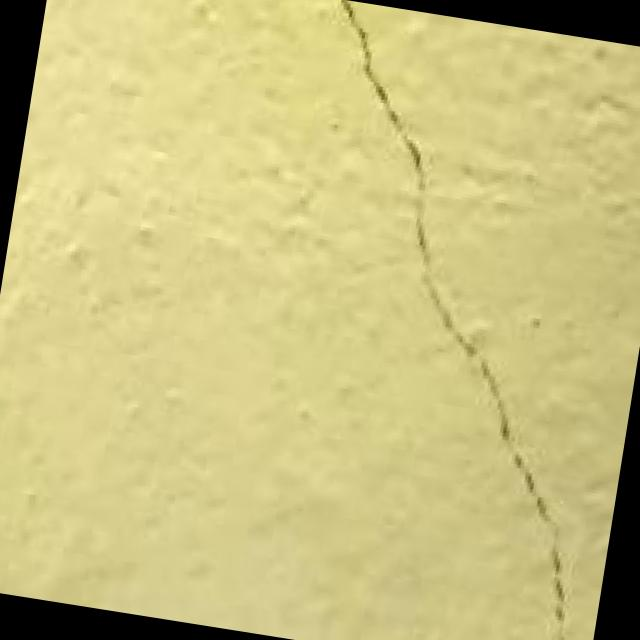crack: (245, 6, 640, 640)
